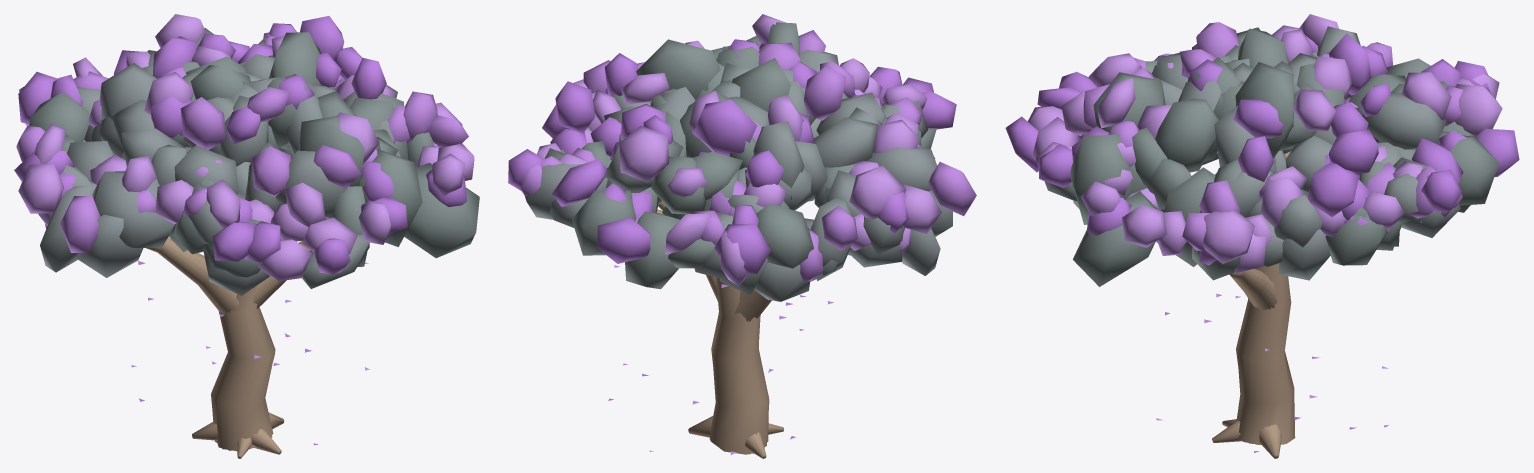
The model's file is Jacaranda_Tree.fbx.
The picture shows the model from 3 angles, left to right: view 1: azimuth 30°, elevation 25°; view 2: azimuth 150°, elevation 25°; view 3: azimuth 270°, elevation 25°; orthographic projection. The views are drawn at different scales.
Visible parts, largest first — view 1: LOD0_Foliage, LOD1_Foliage, LOD2_Foliage, LOD0_Bark, LOD1_Bark, LOD2_Bark; view 2: LOD0_Foliage, LOD1_Foliage, LOD2_Foliage, LOD0_Bark, LOD1_Bark, LOD2_Bark; view 3: LOD0_Foliage, LOD1_Foliage, LOD2_Foliage, LOD0_Bark, LOD1_Bark, LOD2_Bark.
Boxes of the visible parts, bbox=[...] form: LOD0_Foliage: bbox=[14, 23, 468, 288]; LOD1_Foliage: bbox=[16, 14, 479, 295]; LOD2_Foliage: bbox=[19, 36, 474, 277]; LOD0_Bark: bbox=[145, 238, 310, 458]; LOD1_Bark: bbox=[146, 237, 307, 458]; LOD2_Bark: bbox=[149, 238, 306, 458]; LOD0_Foliage: bbox=[508, 14, 936, 289]; LOD1_Foliage: bbox=[521, 43, 941, 301]; LOD2_Foliage: bbox=[541, 40, 976, 286]; LOD0_Bark: bbox=[656, 202, 783, 458]; LOD1_Bark: bbox=[657, 204, 783, 458]; LOD2_Bark: bbox=[657, 206, 783, 455]; LOD0_Foliage: bbox=[1027, 22, 1502, 280]; LOD1_Foliage: bbox=[1005, 25, 1519, 286]; LOD2_Foliage: bbox=[1059, 14, 1499, 280]; LOD0_Bark: bbox=[1212, 152, 1295, 458]; LOD1_Bark: bbox=[1212, 153, 1290, 457]; LOD2_Bark: bbox=[1212, 151, 1290, 458].
Size of the model in its own units: 7.53 by 6.97 by 8.12.
